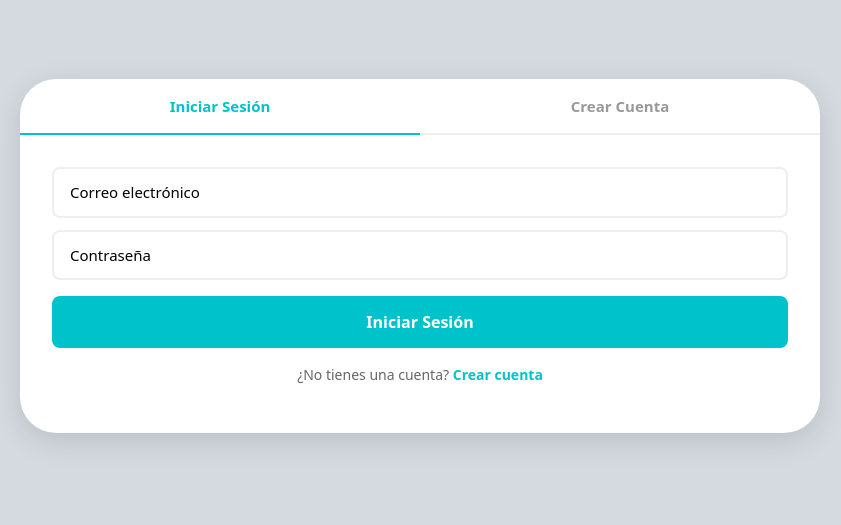
it: LoginRegister › cambia al formulario de registro al hacer clic en Crear Cuenta
Click the button "Crear Cuenta" at (620, 107), box top-left (420, 79), bottom-right (820, 135)
Wait 500 ms
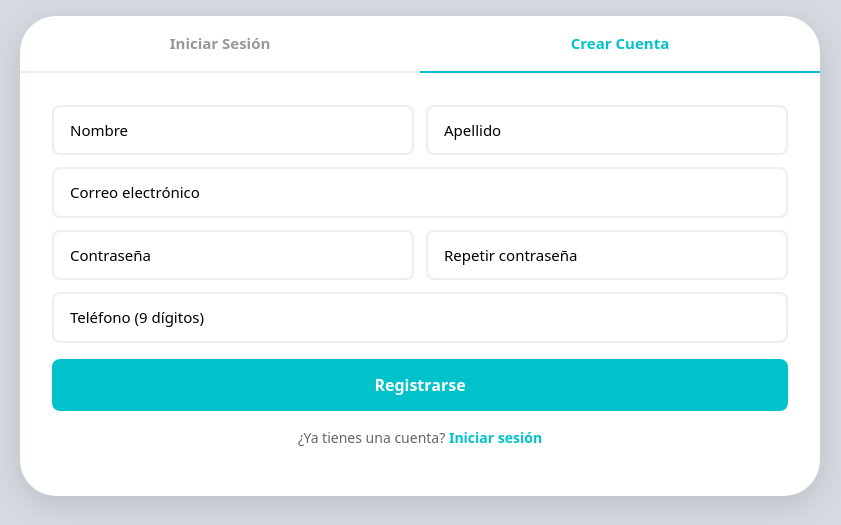
Now the field with placeholder "Nombre" is shown, box top-left (52, 105), bottom-right (414, 155)
Now the field with placeholder "Apellido" is shown, box top-left (426, 105), bottom-right (788, 155)
Now the password field with placeholder "Repetir contraseña" is shown, box top-left (426, 230), bottom-right (788, 280)
